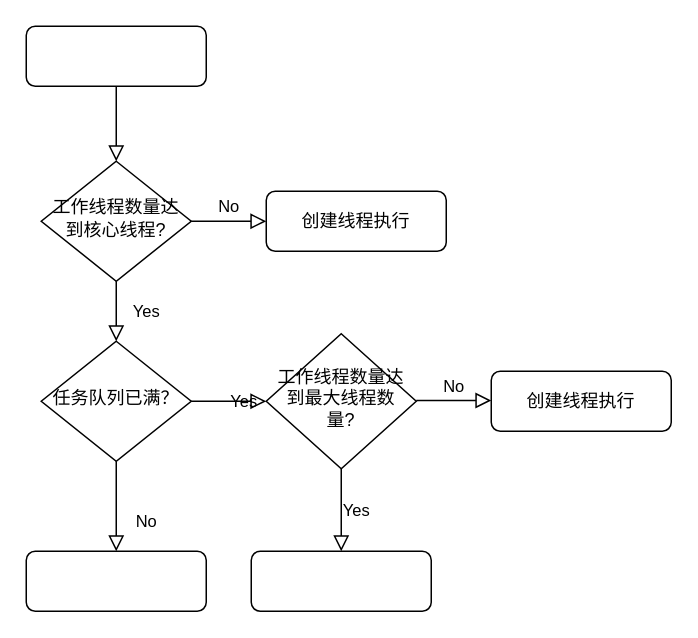
The diagram is 698 pixels wide and 638 high, and some of its shapes have lost their labels. The centre of each missing label's shape, as x and y in pixels:
"Task" belongs at (x=115, y=55).
"执行拒绝策略" belongs at (x=340, y=580).
"放到任务队列" belongs at (x=115, y=580).
